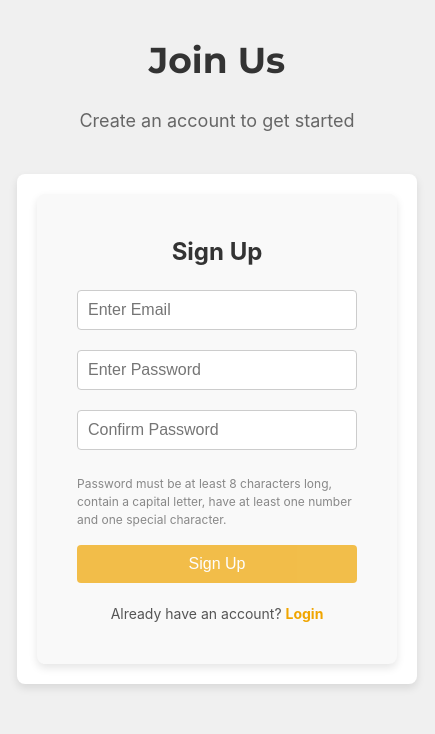
Test case: Signup Page Tests › displays error message when postData throws an error
This screenshot has width=435, height=734.
# Fill out the form
Type "test@example.com" into the field with placeholder "Enter Email" at coordinates (217, 310), box [77,290,357,330]
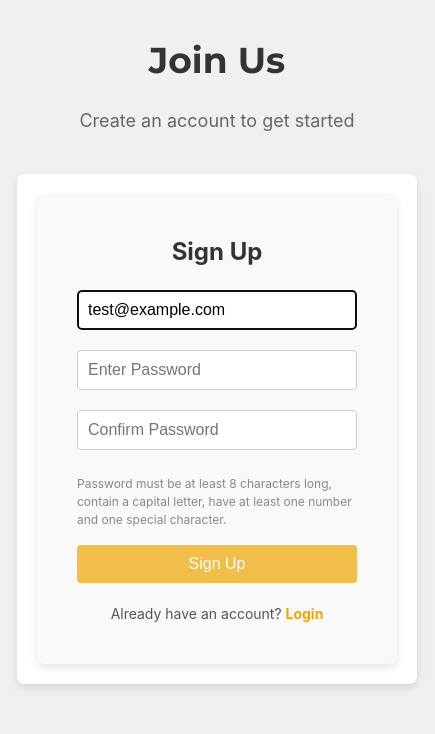
Type "Password1!" into the password field with placeholder "Enter Password" at coordinates (217, 370), box [77,350,357,390]
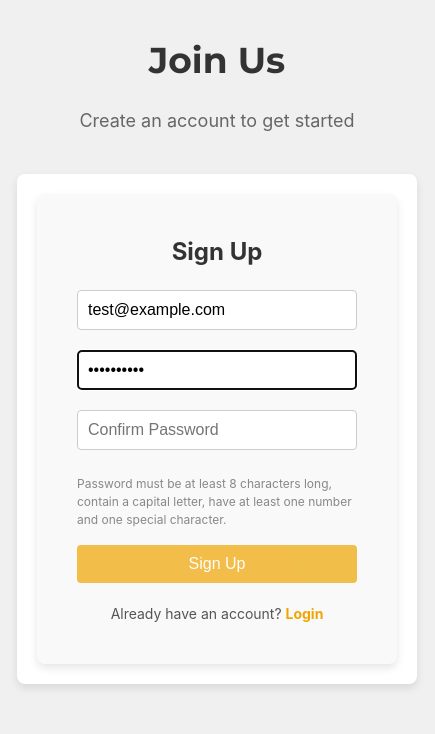
Type "Password1!" into the password field with placeholder "Confirm Password" at coordinates (217, 430), box [77,410,357,450]
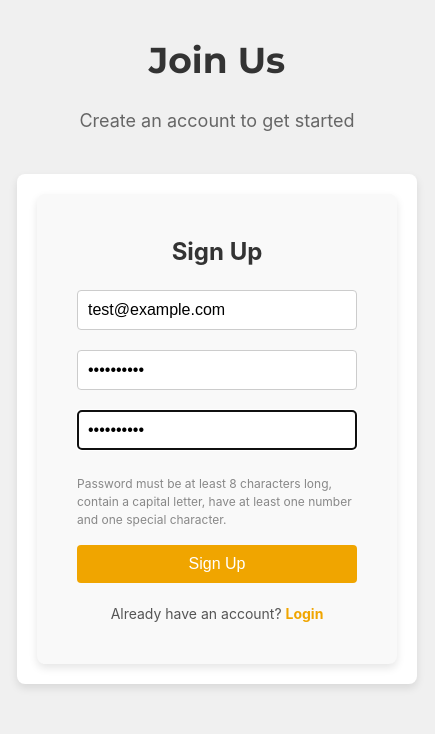
# Submit the form
Click the button "Sign Up" at coordinates (217, 564), box [77,544,357,582]
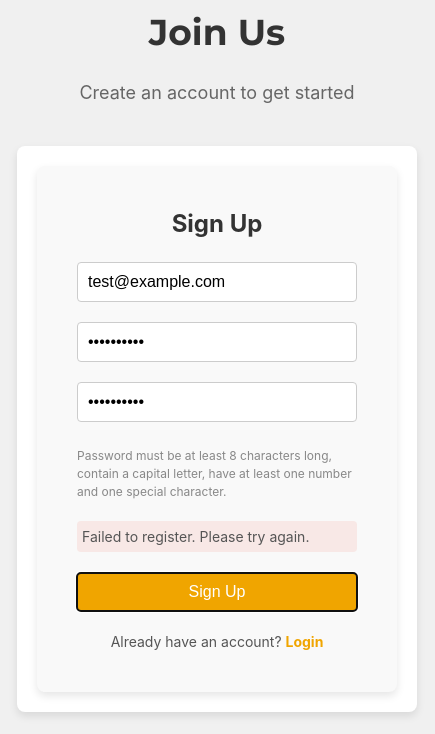
Expected: the text "Failed to register. Please try again." is shown, [77,520,357,552]
